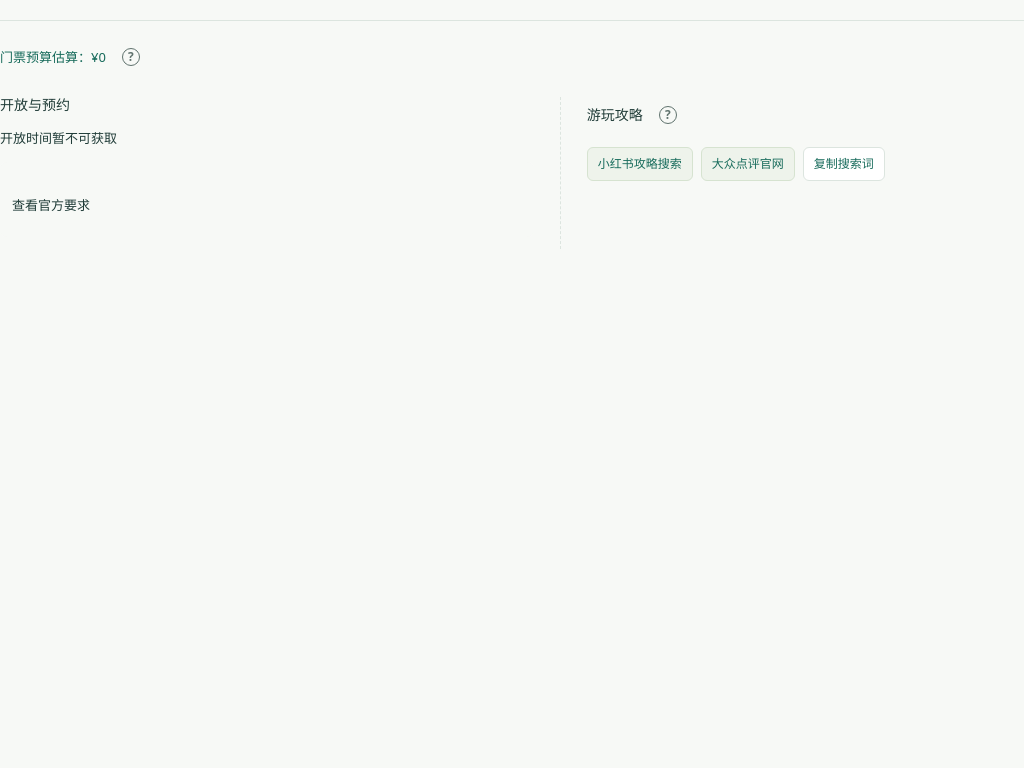
continues rejecting unsafe source and official links
Click the button "?" next to "¥0" at (131, 57), box [113,39,149,75]
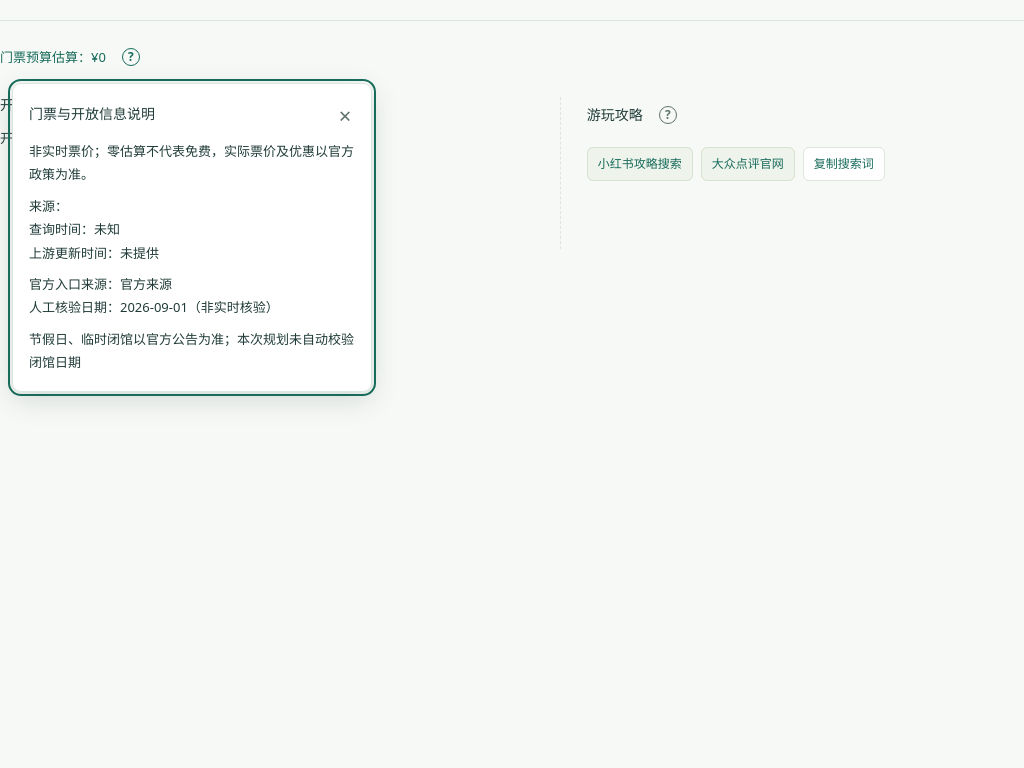
Check: the dialog with class "info-hint-panel" shows "查询时间：未知", box [29,220,120,238]
